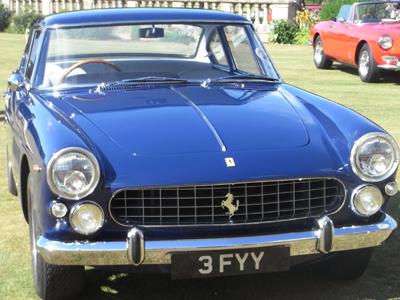licencePlate: (171, 245, 301, 276)
